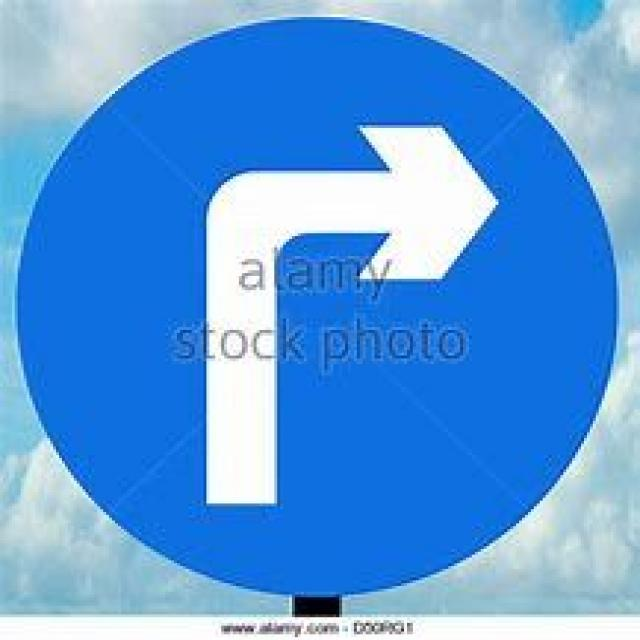COMPULSARY_TURN_RIGHT_AHEAD: (15, 11, 619, 592)
